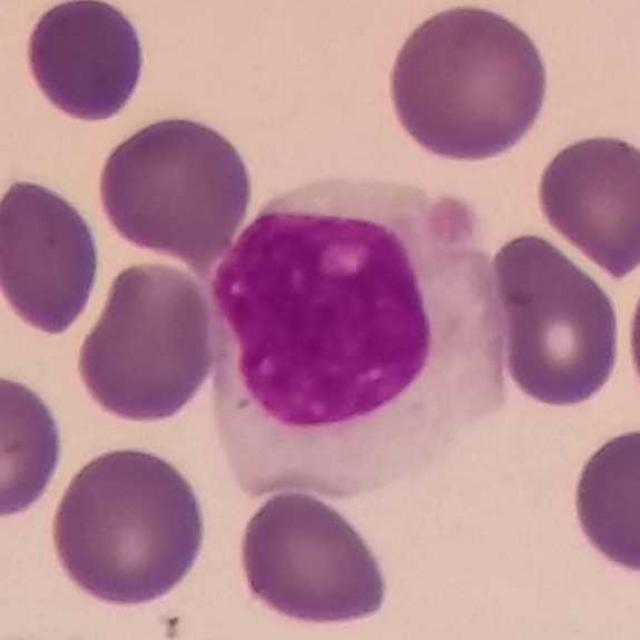Monocyte: (207, 177, 506, 504)
RBC: (44, 440, 212, 610), (383, 0, 553, 166), (482, 227, 627, 412), (70, 256, 222, 429), (95, 109, 256, 263), (232, 484, 396, 633), (0, 172, 105, 340), (20, 0, 151, 126), (531, 127, 640, 277), (565, 420, 640, 583), (0, 368, 68, 526)
